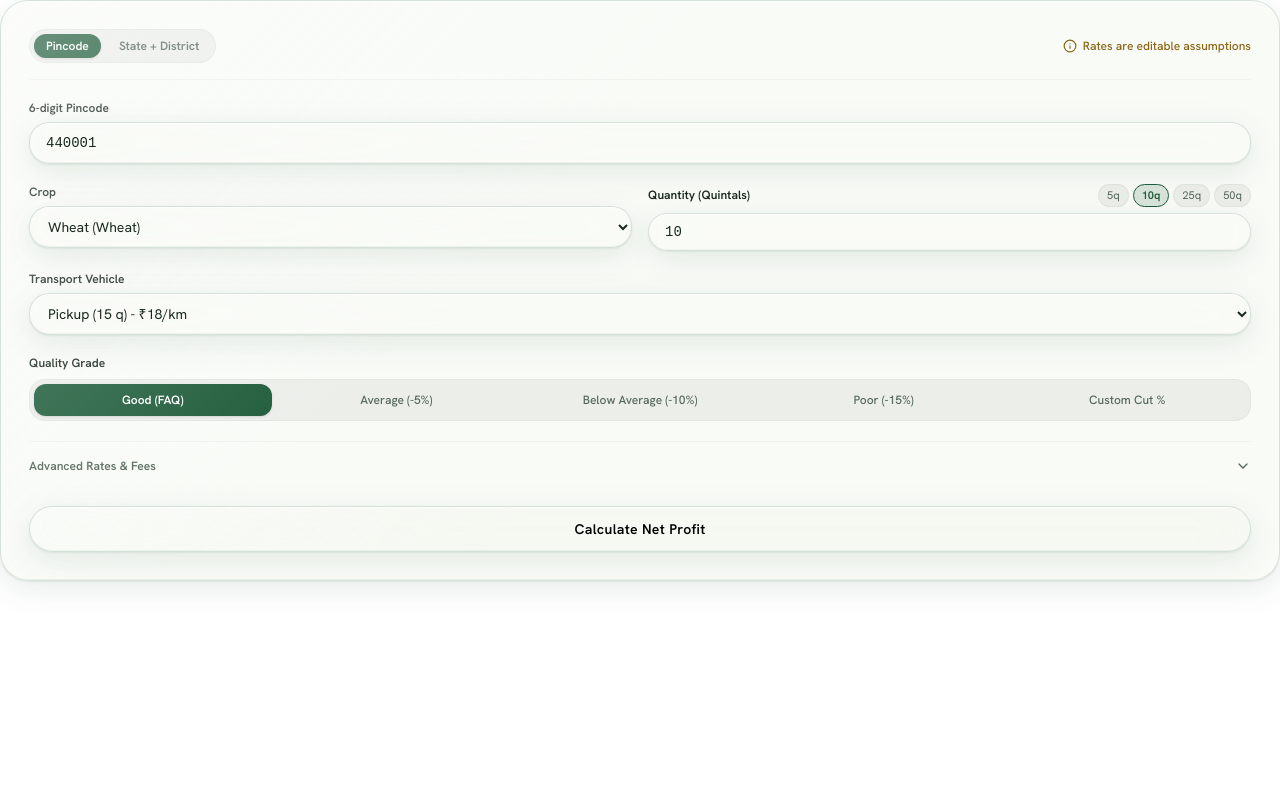
Test case: SearchPanel Component › updates quantity via quick chips
Expected: the button "Calculate Net Profit" is shown, [29,506,1251,552]
Click the button "25q" at (1192,195), box [1173,184,1210,206]
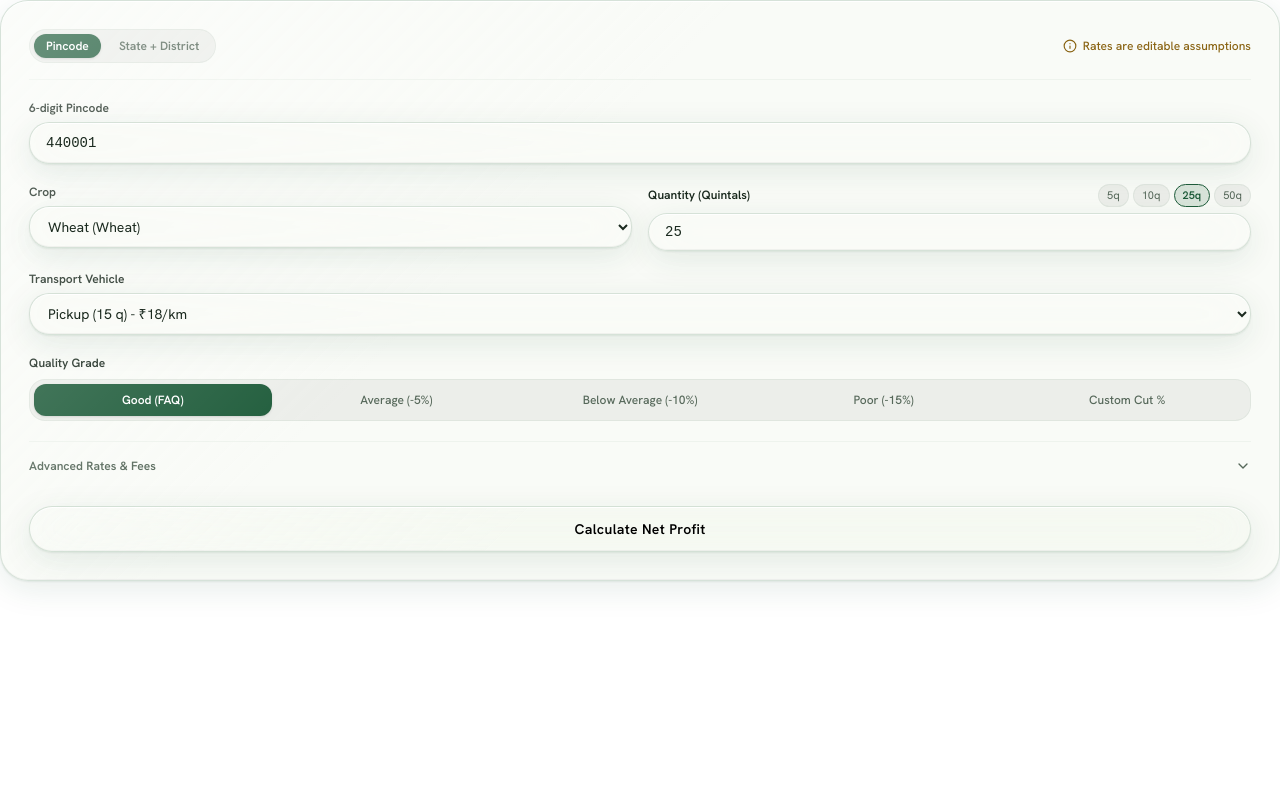
Result: the number field labelled "Quantity (Quintals)" holds "25" at [648,212,1251,250]
